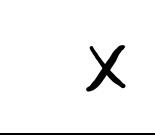mult: (86, 44, 126, 90)
